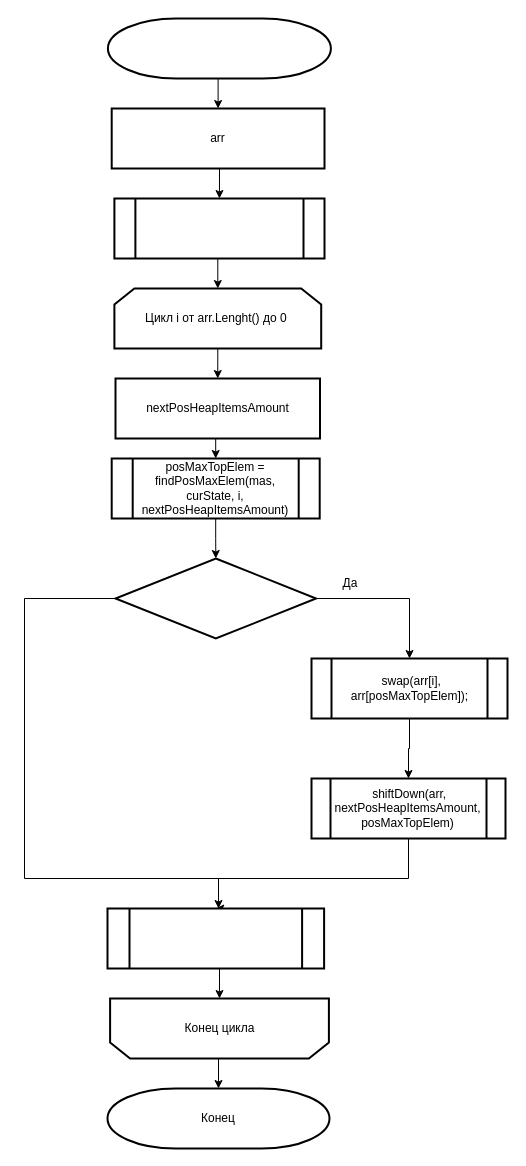
Image size: 526x1166. Some labels were removed from this diagram. Here are the shapes that lost their labels. From the top down, the centre of each, then its label:
At (x=218, y=48): "Начало".
At (x=219, y=228): "make_heap_pool(arr)".
At (x=215, y=598): "posMaxTopElem != i".
At (x=215, y=938): "PrevState(curState)".
